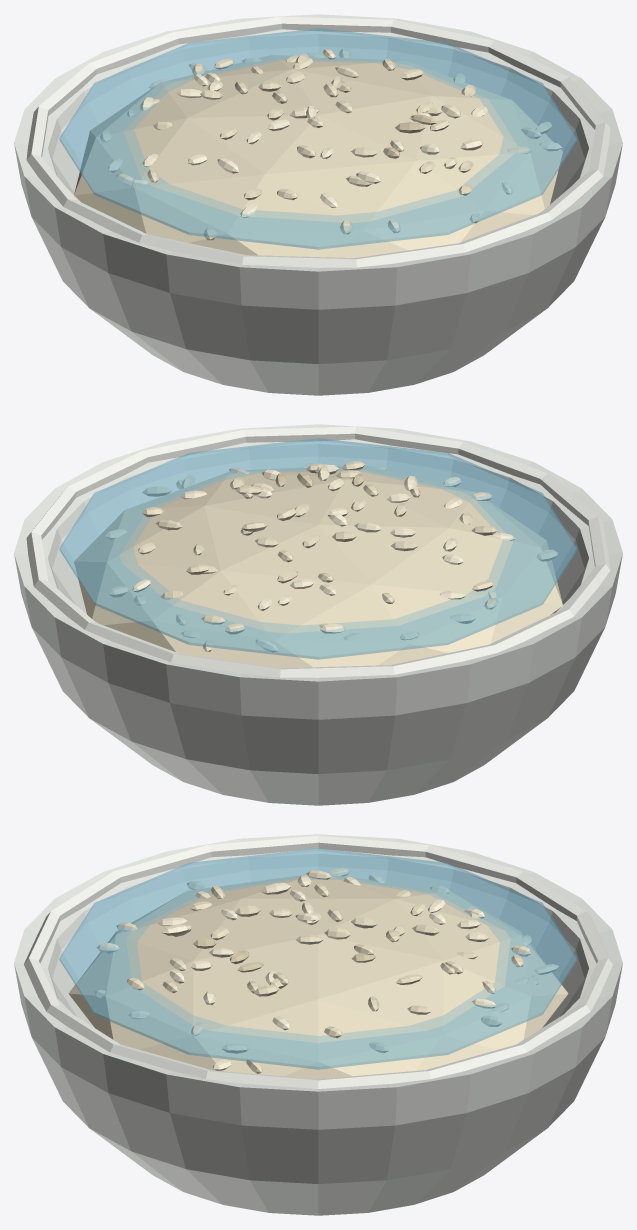
File: rice.glb
3 views of the same model, one above another, from view 1: azimuth 30°, elevation 25°; view 2: azimuth 150°, elevation 25°; view 3: azimuth 270°, elevation 25° (orthographic).
Parts seen in each view (by area): view 1: rice_bowl, rice_pile_base, water, bowl_glazed_rim, uncooked_rice_grains; view 2: rice_bowl, rice_pile_base, water, bowl_glazed_rim, uncooked_rice_grains; view 3: rice_bowl, rice_pile_base, water, bowl_glazed_rim, uncooked_rice_grains.
Part boxes in pixels (<box>): rice_bowl: <box>14,14,622,395</box>; rice_pile_base: <box>74,55,562,257</box>; water: <box>59,28,577,249</box>; bowl_glazed_rim: <box>26,16,610,267</box>; uncooked_rice_grains: <box>100,48,561,240</box>; rice_bowl: <box>14,424,622,805</box>; rice_pile_base: <box>74,465,562,667</box>; water: <box>59,438,577,659</box>; bowl_glazed_rim: <box>26,426,610,677</box>; uncooked_rice_grains: <box>105,461,557,652</box>; rice_bowl: <box>14,834,622,1215</box>; rice_pile_base: <box>68,874,568,1078</box>; water: <box>59,848,577,1069</box>; bowl_glazed_rim: <box>24,835,612,1088</box>; uncooked_rice_grains: <box>95,868,558,1073</box>.
Size of the model in its own units: 0.414 by 0.1751 by 0.414.
